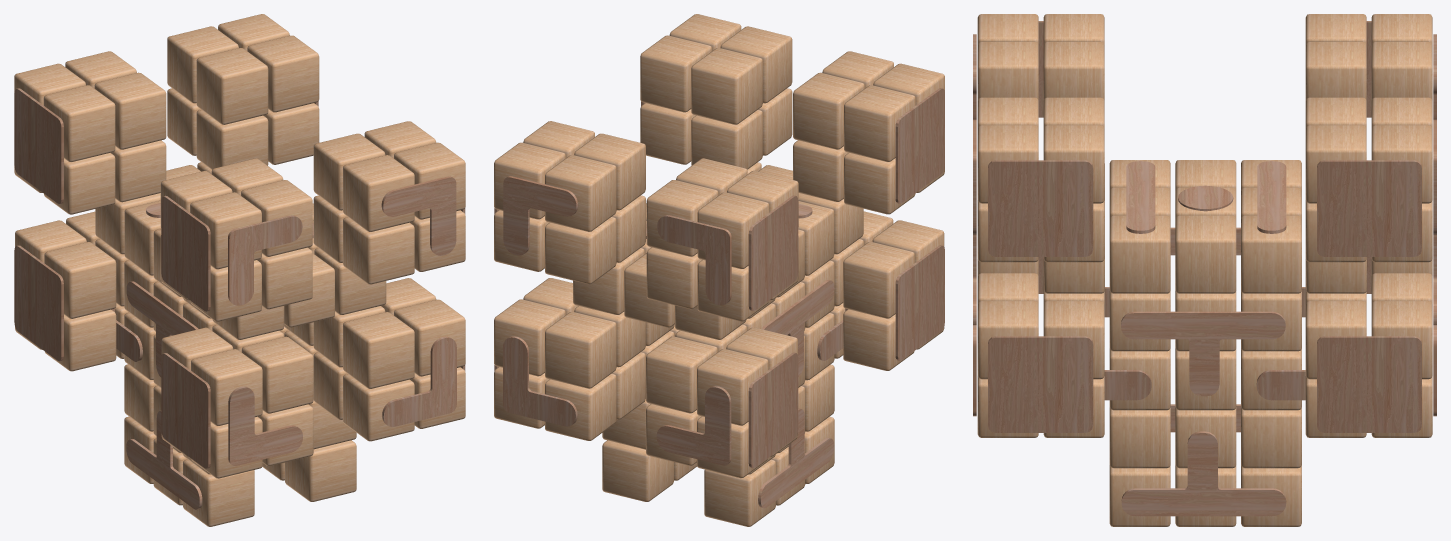
File: level_65.fbx
3 renders of one model, left to right at view 1: azimuth 30°, elevation 25°; view 2: azimuth 150°, elevation 25°; view 3: azimuth 270°, elevation 25°, orthographic. The views are drawn at different scales.
Parts seen in each view (by area): view 1: Cube.056, Cube.014, obj_obs_square.007, obj_obs_square.004, obj_obs_square.008, obj_obs_square.005, Cube.069, Cube.077, Cube.017, Cube.019, Cube.030, Cube.055 (+56 smaller); view 2: Cube.044, Cube.002, obj_obs_square.005, obj_obs_square.008, obj_obs_square.004, obj_obs_square.007, Cube.026, Cube.033, Cube.052, Cube.054, Cube.001, Cube.031 (+57 smaller); view 3: obj_obs_square.006, obj_obs_square.002, obj_obs_square.001, obj_obs_square.003, obj_obs_T.004, obj_obs_T.002, Cube.040, Cube.008, Cube.097, Cube.093, Cube.105, Cube.036 (+56 smaller).
Boxes of the visible parts, x1=… form: Cube.056: x1=196, y1=48, x2=268, y2=124; Cube.014: x1=343, y1=312, x2=414, y2=388; obj_obs_square.007: x1=161, y1=195, x2=210, y2=311; obj_obs_square.004: x1=161, y1=353, x2=210, y2=468; obj_obs_square.008: x1=14, y1=88, x2=63, y2=203; obj_obs_square.005: x1=14, y1=245, x2=63, y2=361; Cube.069: x1=44, y1=242, x2=116, y2=318; Cube.077: x1=43, y1=85, x2=115, y2=162; Cube.017: x1=343, y1=155, x2=414, y2=231; Cube.019: x1=343, y1=217, x2=414, y2=284; Cube.030: x1=241, y1=336, x2=313, y2=413; Cube.055: x1=247, y1=35, x2=319, y2=112; Cube.044: x1=545, y1=311, x2=616, y2=388; Cube.002: x1=691, y1=48, x2=762, y2=124; obj_obs_square.005: x1=748, y1=352, x2=798, y2=468; obj_obs_square.008: x1=748, y1=195, x2=798, y2=310; obj_obs_square.004: x1=895, y1=245, x2=944, y2=360; obj_obs_square.007: x1=895, y1=88, x2=944, y2=203; Cube.026: x1=843, y1=241, x2=914, y2=318; Cube.033: x1=844, y1=85, x2=915, y2=161; Cube.052: x1=545, y1=155, x2=616, y2=231; Cube.054: x1=545, y1=217, x2=616, y2=284; Cube.001: x1=640, y1=35, x2=711, y2=112; Cube.031: x1=793, y1=72, x2=864, y2=149; obj_obs_square.006: x1=988, y1=336, x2=1093, y2=432; obj_obs_square.002: x1=988, y1=160, x2=1093, y2=256; obj_obs_square.001: x1=1317, y1=336, x2=1421, y2=432; obj_obs_square.003: x1=1317, y1=160, x2=1421, y2=256; obj_obs_T.004: x1=1121, y1=431, x2=1286, y2=516; obj_obs_T.002: x1=1121, y1=311, x2=1285, y2=396; Cube.040: x1=1175, y1=215, x2=1236, y2=293; Cube.008: x1=1109, y1=215, x2=1170, y2=293; Cube.097: x1=1241, y1=215, x2=1301, y2=293; Cube.093: x1=1109, y1=407, x2=1170, y2=468; Cube.105: x1=1241, y1=407, x2=1301, y2=468; Cube.036: x1=977, y1=41, x2=1038, y2=100.
Bounding box in the file's own units: 10.61 × 14.31 × 14.81.
